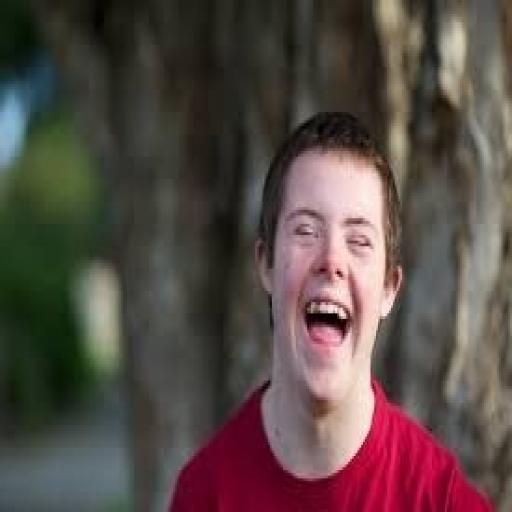laughing: (158, 101, 497, 509)
